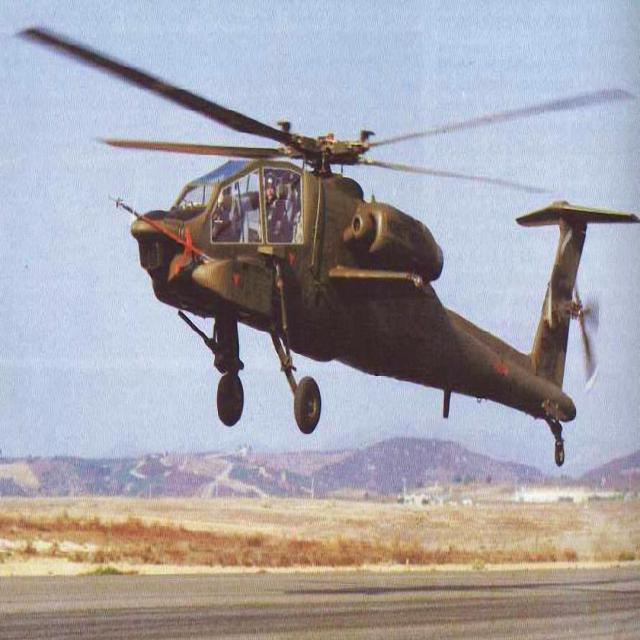MIL_HELO: (13, 17, 640, 473)
